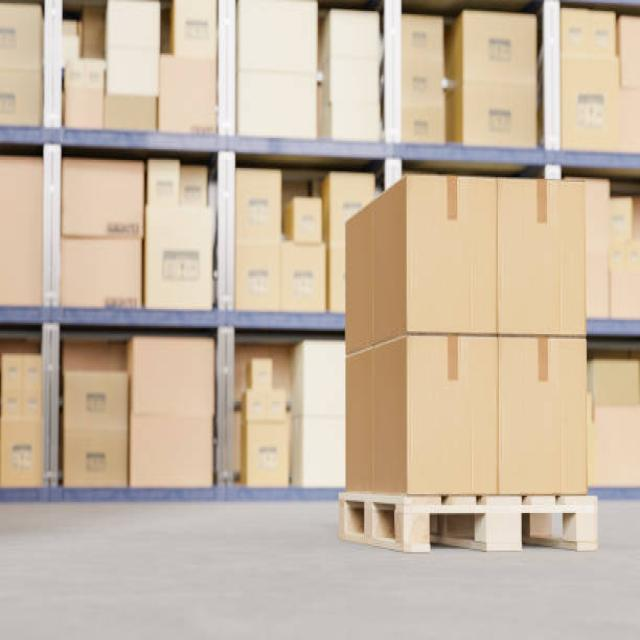Wooden-Pallets: (338, 488, 604, 558)
